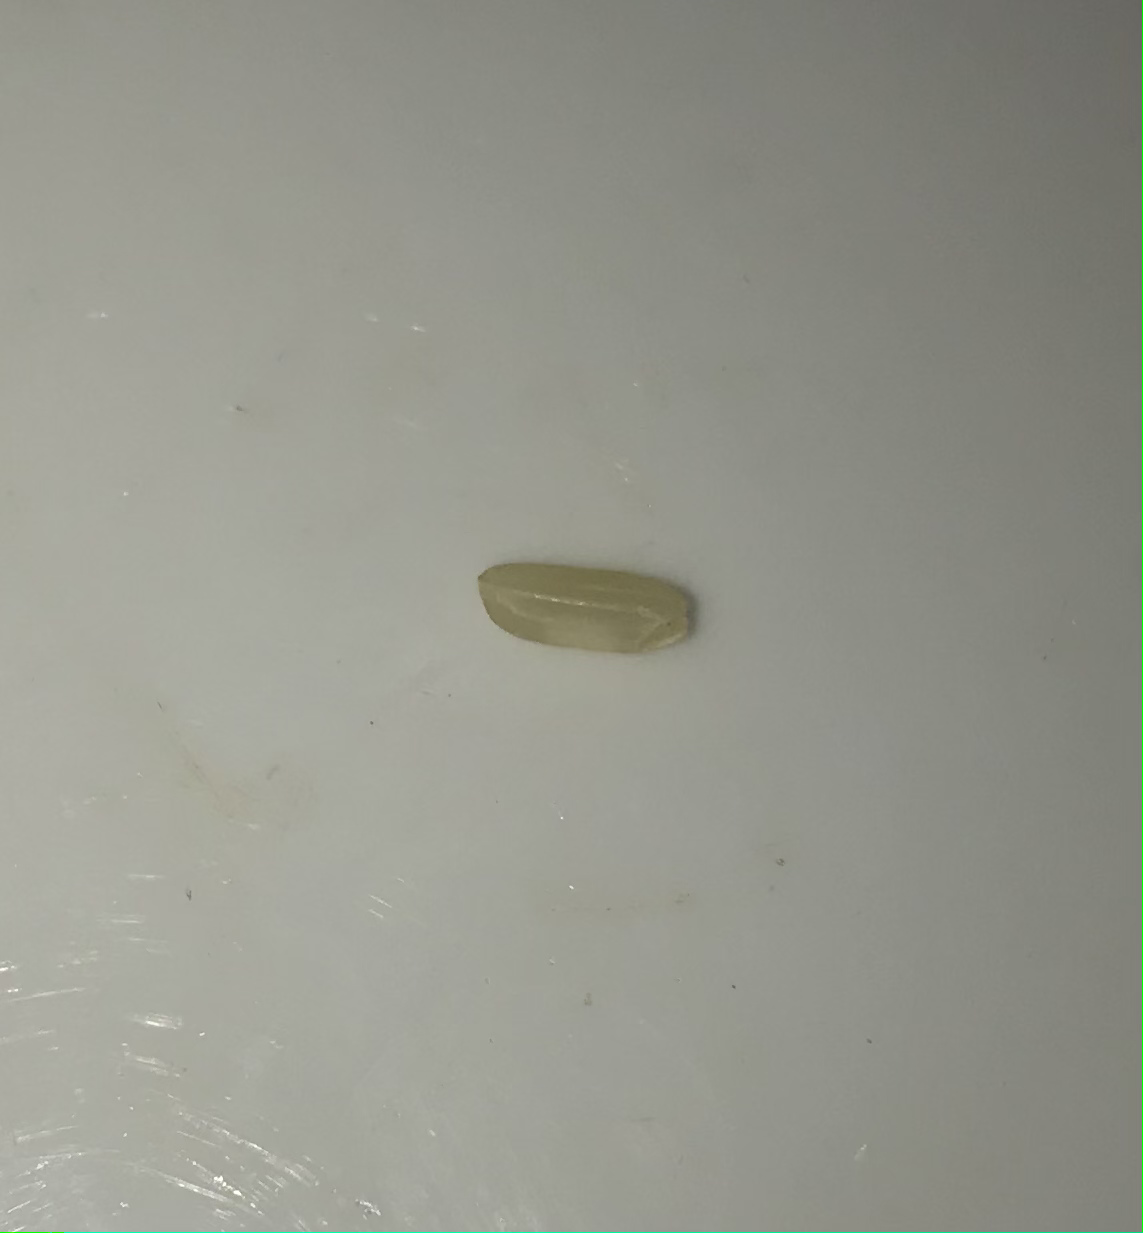Gao Lut Trang: (480, 549, 703, 663)
